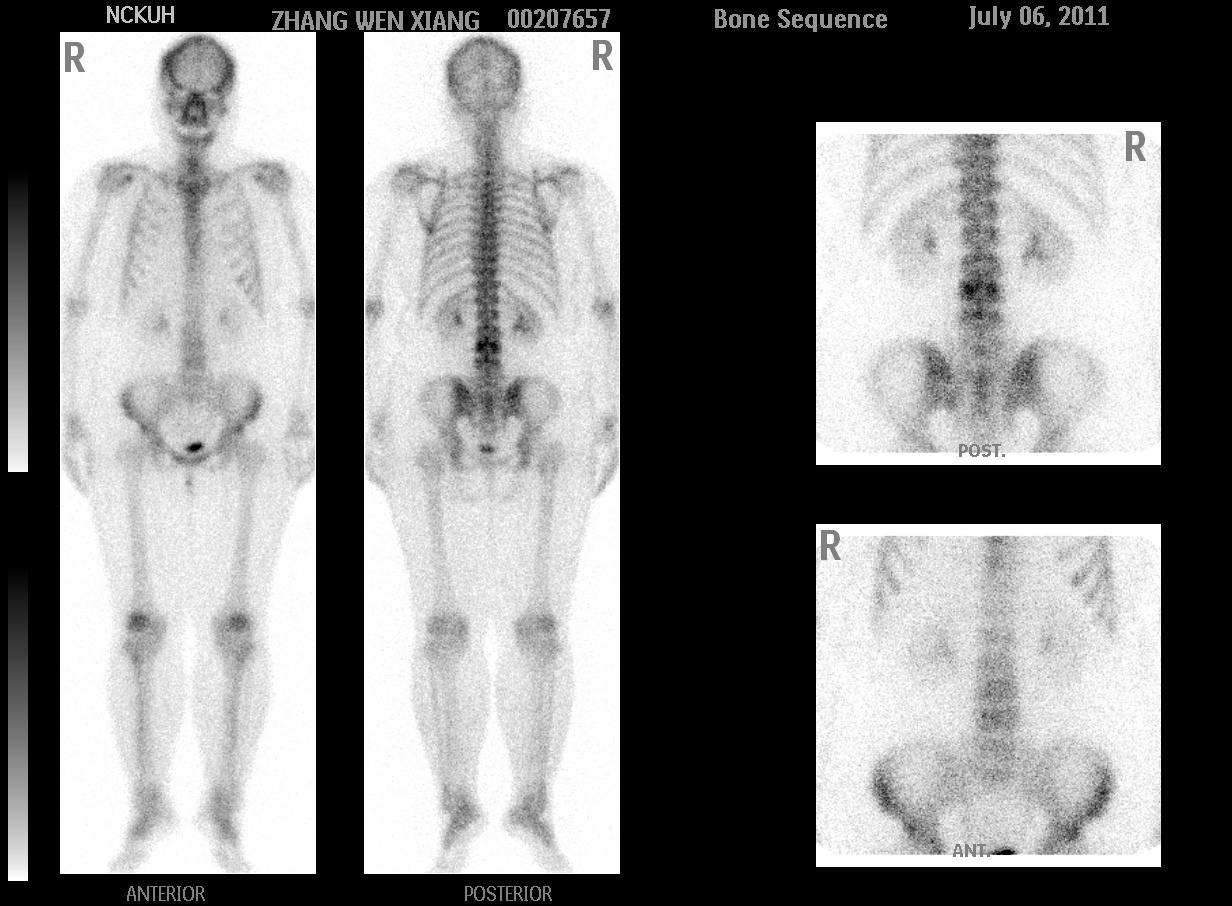person: (58, 32, 622, 875)
